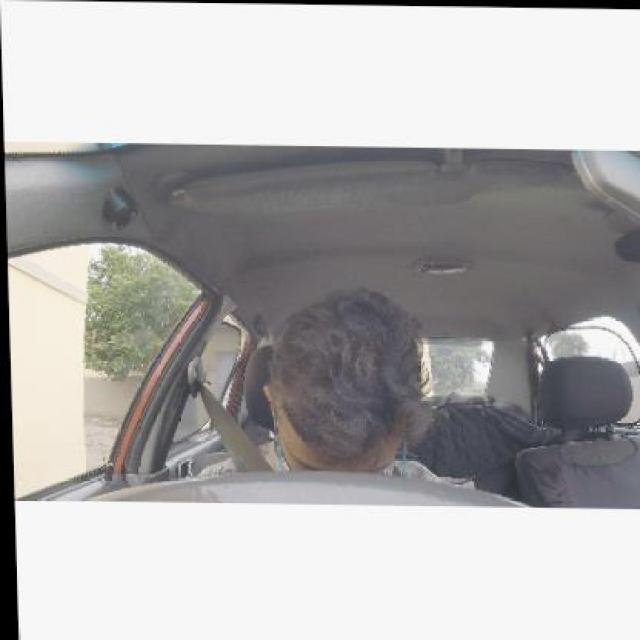drowsy: (258, 291, 432, 481)
